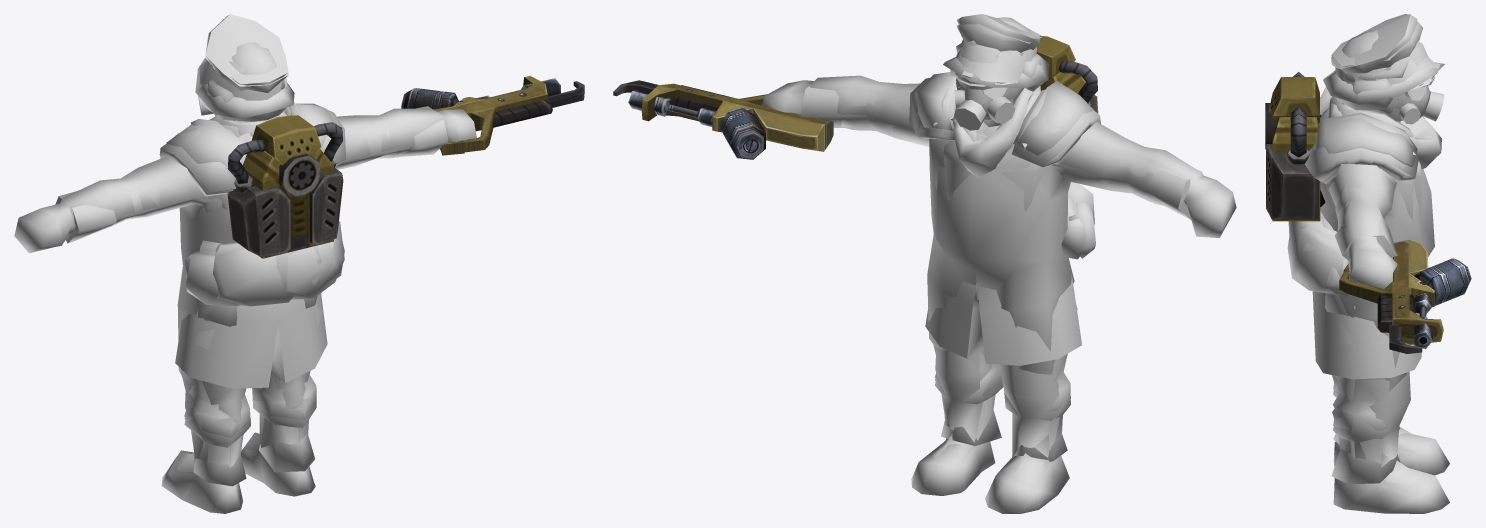
3 renders of one model, left to right at view 1: azimuth 30°, elevation 25°; view 2: azimuth 150°, elevation 25°; view 3: azimuth 270°, elevation 25°, orthographic. The views are drawn at different scales.
Visible parts, largest first — view 1: TS_Body_08_trench, TS_Body_02_gunner, backpack_engineer, TS_Body_01_infantry, TS_Body_09_general, weapon_welder, TS_Body_05_engineer, TS_Head_13_gasmask_general, TS_Body_04_sniper, TS_Body_07_unequipped, TS_Head_07_medic_B, TS_Head_04_sniper (+3 smaller); view 2: TS_Body_02_gunner, TS_Body_08_trench, weapon_welder, TS_Body_01_infantry, TS_Body_06_medic, TS_Body_04_sniper, TS_Body_05_engineer, TS_Body_09_general, backpack_engineer, TS_Body_07_unequipped, TS_Head_07_medic_B, TS_Head_11_gasmask (+4 smaller); view 3: TS_Body_02_gunner, TS_Body_08_trench, backpack_engineer, weapon_welder, TS_Body_05_engineer, TS_Body_01_infantry, TS_Body_04_sniper, TS_Body_09_general, TS_Head_13_gasmask_general, TS_Body_07_unequipped, TS_Head_04_sniper, TS_Head_07_medic_B (+6 smaller).
Boxes of the visible parts, x1=… form: TS_Body_08_trench: x1=18, y1=106, x2=448, y2=512; TS_Body_02_gunner: x1=15, y1=103, x2=472, y2=420; backpack_engineer: x1=227, y1=115, x2=343, y2=258; TS_Body_01_infantry: x1=14, y1=102, x2=459, y2=513; TS_Body_09_general: x1=15, y1=115, x2=390, y2=513; weapon_welder: x1=401, y1=76, x2=584, y2=155; TS_Body_05_engineer: x1=60, y1=109, x2=476, y2=504; TS_Head_13_gasmask_general: x1=205, y1=14, x2=288, y2=92; TS_Body_04_sniper: x1=193, y1=115, x2=314, y2=486; TS_Body_07_unequipped: x1=118, y1=217, x2=316, y2=462; TS_Head_07_medic_B: x1=199, y1=46, x2=281, y2=122; TS_Head_04_sniper: x1=195, y1=58, x2=294, y2=118; TS_Body_02_gunner: x1=764, y1=72, x2=1234, y2=410; TS_Body_08_trench: x1=800, y1=85, x2=1236, y2=513; weapon_welder: x1=613, y1=80, x2=833, y2=159; TS_Body_01_infantry: x1=810, y1=78, x2=1236, y2=491; TS_Body_06_medic: x1=916, y1=87, x2=1100, y2=462; TS_Body_04_sniper: x1=941, y1=88, x2=1129, y2=461; TS_Body_05_engineer: x1=762, y1=85, x2=1195, y2=513; TS_Body_09_general: x1=816, y1=89, x2=1226, y2=488; backpack_engineer: x1=1036, y1=36, x2=1098, y2=113; TS_Body_07_unequipped: x1=855, y1=89, x2=1070, y2=464; TS_Head_07_medic_B: x1=950, y1=17, x2=1036, y2=83; TS_Head_11_gasmask: x1=954, y1=87, x2=1023, y2=130; TS_Body_02_gunner: x1=1291, y1=87, x2=1434, y2=430; TS_Body_08_trench: x1=1287, y1=152, x2=1447, y2=475; backpack_engineer: x1=1265, y1=72, x2=1325, y2=221; weapon_welder: x1=1339, y1=239, x2=1471, y2=353; TS_Body_05_engineer: x1=1288, y1=96, x2=1449, y2=513; TS_Body_01_infantry: x1=1295, y1=113, x2=1420, y2=509; TS_Body_04_sniper: x1=1328, y1=98, x2=1441, y2=484; TS_Body_09_general: x1=1320, y1=153, x2=1423, y2=503; TS_Head_13_gasmask_general: x1=1331, y1=14, x2=1434, y2=124; TS_Body_07_unequipped: x1=1333, y1=201, x2=1389, y2=481; TS_Head_04_sniper: x1=1323, y1=62, x2=1444, y2=104; TS_Head_07_medic_B: x1=1335, y1=30, x2=1434, y2=104.
Size of the model in its own units: 3.53 by 2.7 by 1.08.
